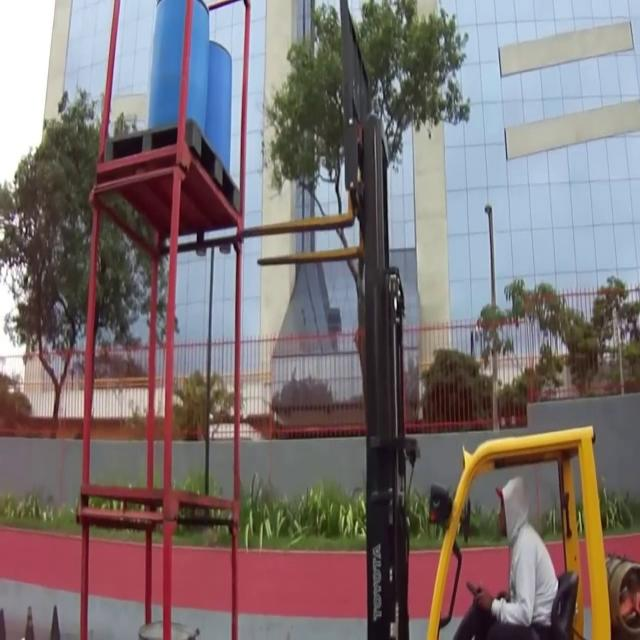Chariot elevateur: (408, 411, 629, 640)
